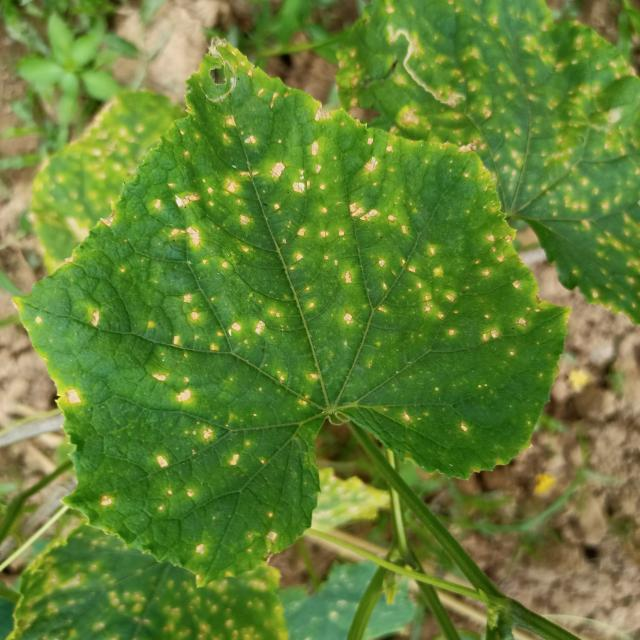disease_cucumber: (39, 83, 542, 364), (94, 364, 322, 562), (397, 387, 472, 438), (58, 379, 96, 412)
